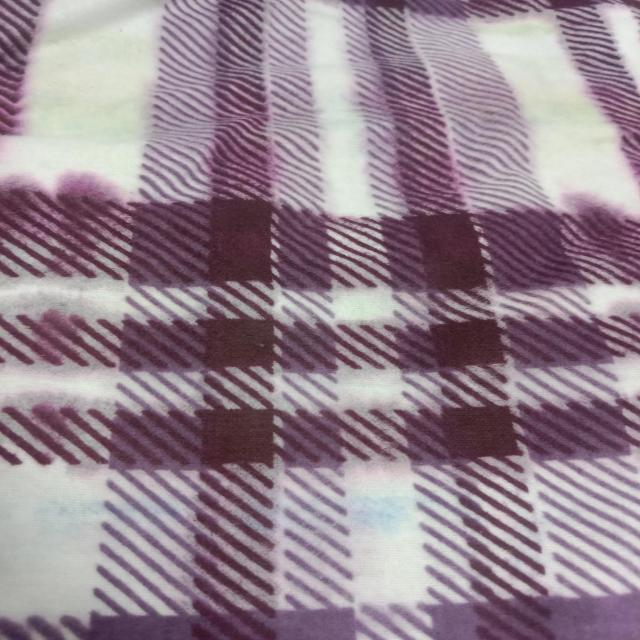baekra: (5, 160, 640, 479)
